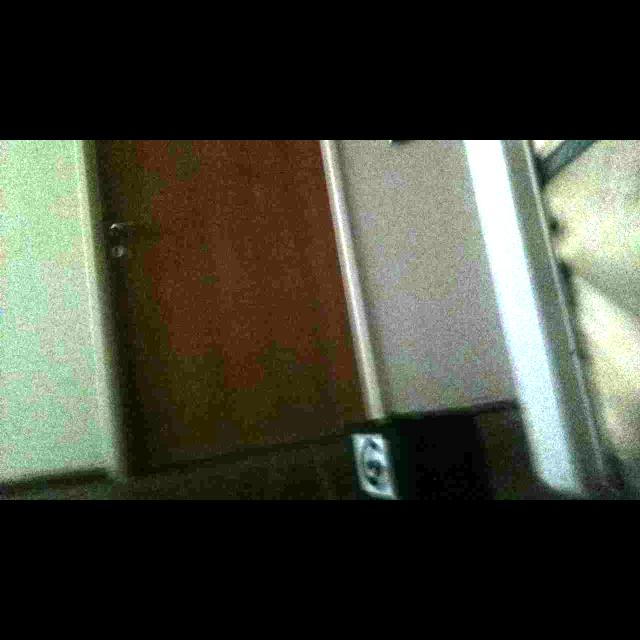G: (360, 439, 387, 491)
